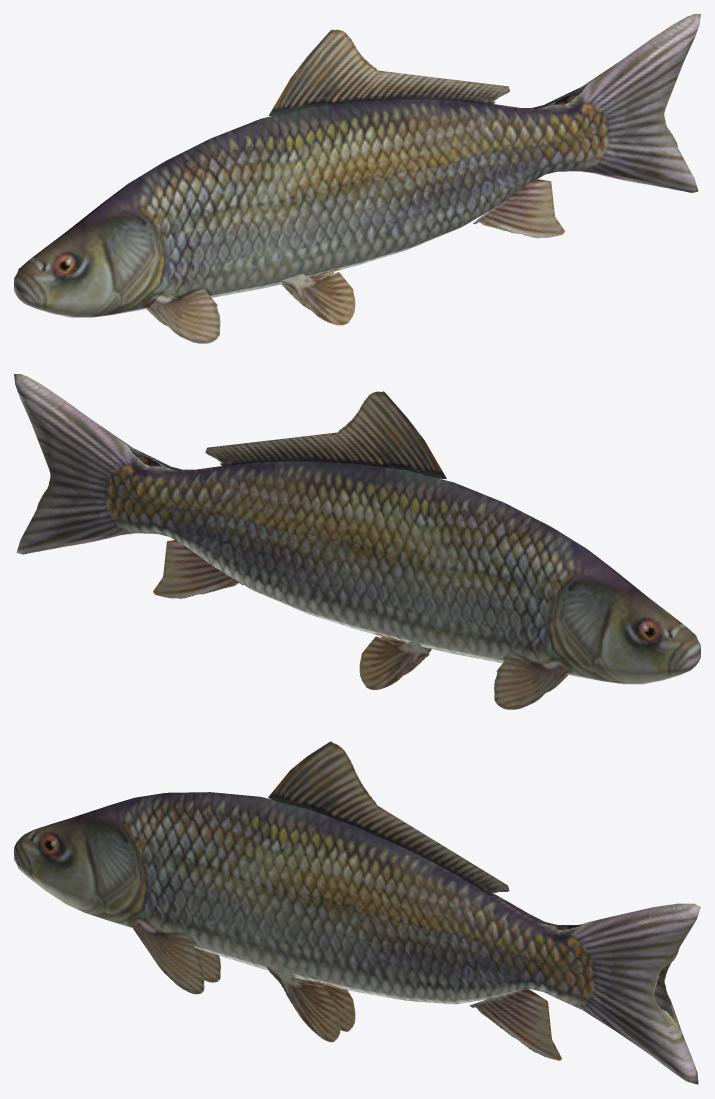
The model's file is pez.obj.
The picture shows the model from 3 angles, top to bottom: view 1: azimuth 30°, elevation 25°; view 2: azimuth 150°, elevation 25°; view 3: azimuth 330°, elevation 25°; orthographic projection.
Visible parts, largest first — view 1: fish2:Mesh; view 2: fish2:Mesh; view 3: fish2:Mesh.
Boxes of the visible parts, bbox=[...] form: fish2:Mesh: bbox=[14, 14, 700, 343]; fish2:Mesh: bbox=[14, 374, 700, 709]; fish2:Mesh: bbox=[14, 741, 700, 1084].
Size of the model in its own units: 1.16 by 0.4772 by 0.0603.
1 material, 1 textured.
